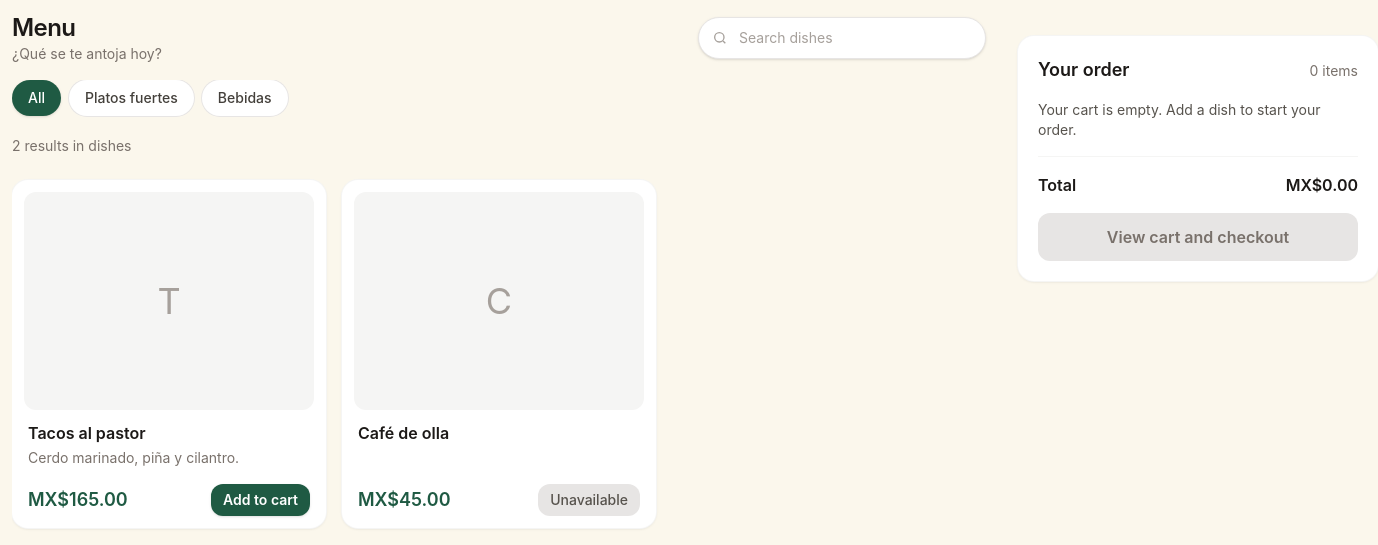
Test: MenuPage › filters the products by category
expect the heading "Tacos al pastor" is shown: met, box [28,422,146,444]
Click the button "Bebidas" at point(245, 98), box [202,80,288,116]
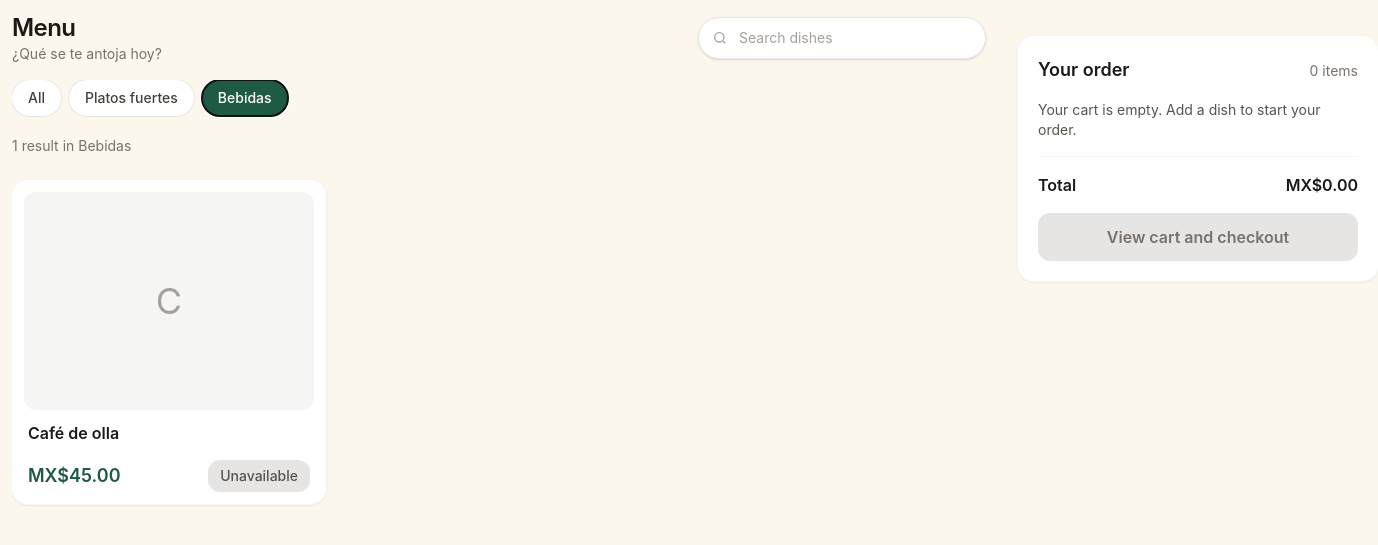
expect the heading "Café de olla" is shown: met, box [28,422,119,444]
expect the button "Tacos al pastor" is gone: met
